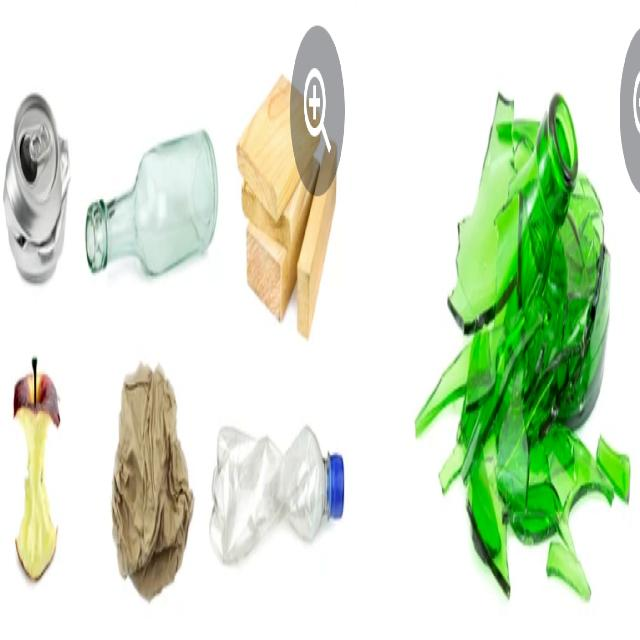Glass: (452, 91, 605, 580), (80, 122, 220, 282)
Metal: (1, 89, 70, 283)
Plastic: (210, 416, 347, 571)
Trash: (9, 364, 63, 580)
